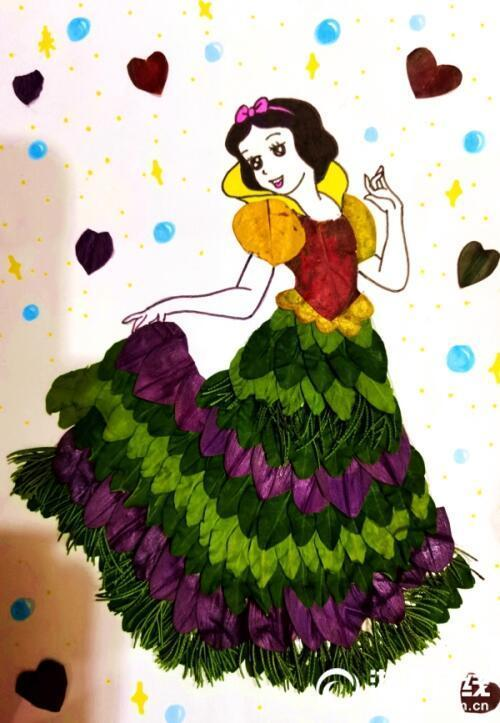apple: (126, 51, 168, 98)
